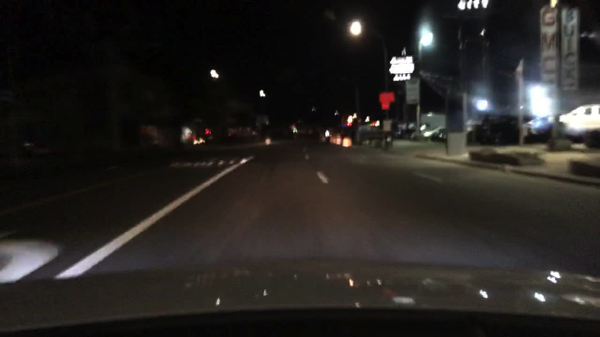car: (555, 99, 600, 149), (0, 127, 55, 160), (468, 112, 522, 144), (519, 110, 556, 144), (224, 124, 259, 141), (420, 122, 447, 142), (430, 126, 455, 143), (290, 122, 315, 139), (397, 121, 417, 140)
traffic sign: (404, 79, 422, 108), (377, 91, 394, 110)
